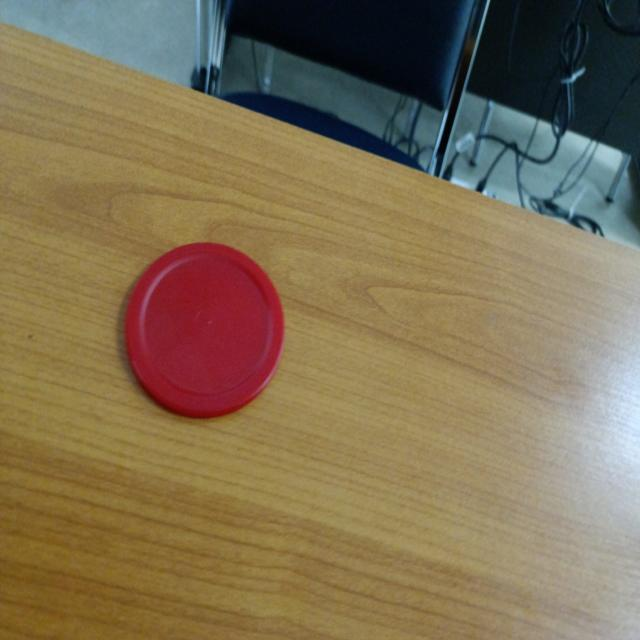chip: (122, 237, 286, 419)
